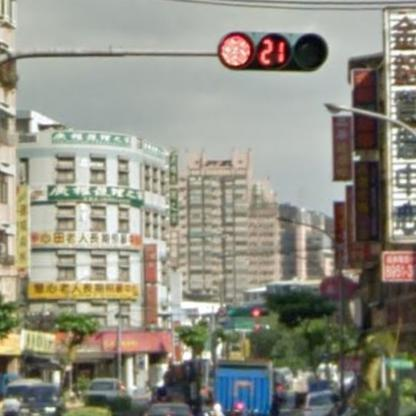Red Light: (215, 28, 332, 76)
